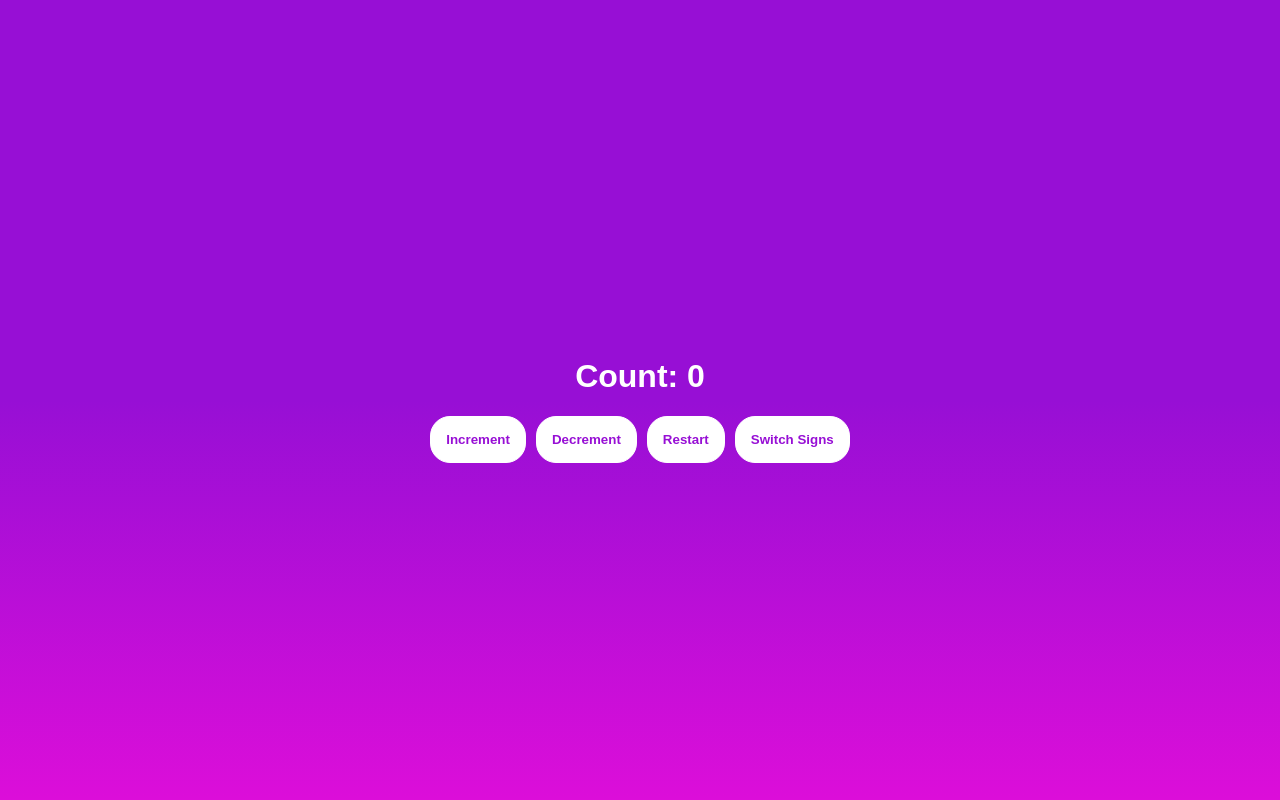
Counter App › Decrement the counter to -2
This screenshot has width=1280, height=800.
Click the button "Decrement" at (586, 440), box [536,416,637,463]
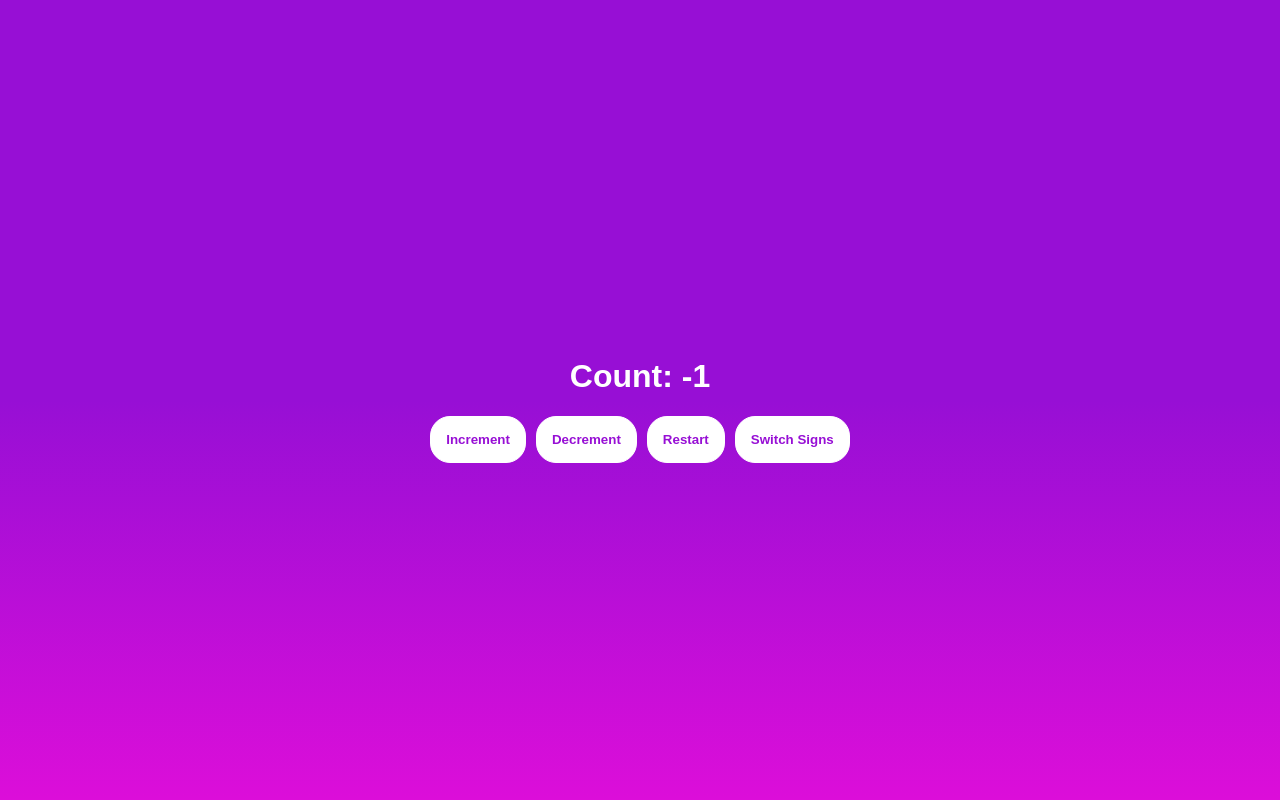
Click the button "Decrement" at (586, 440), box [536,416,637,463]
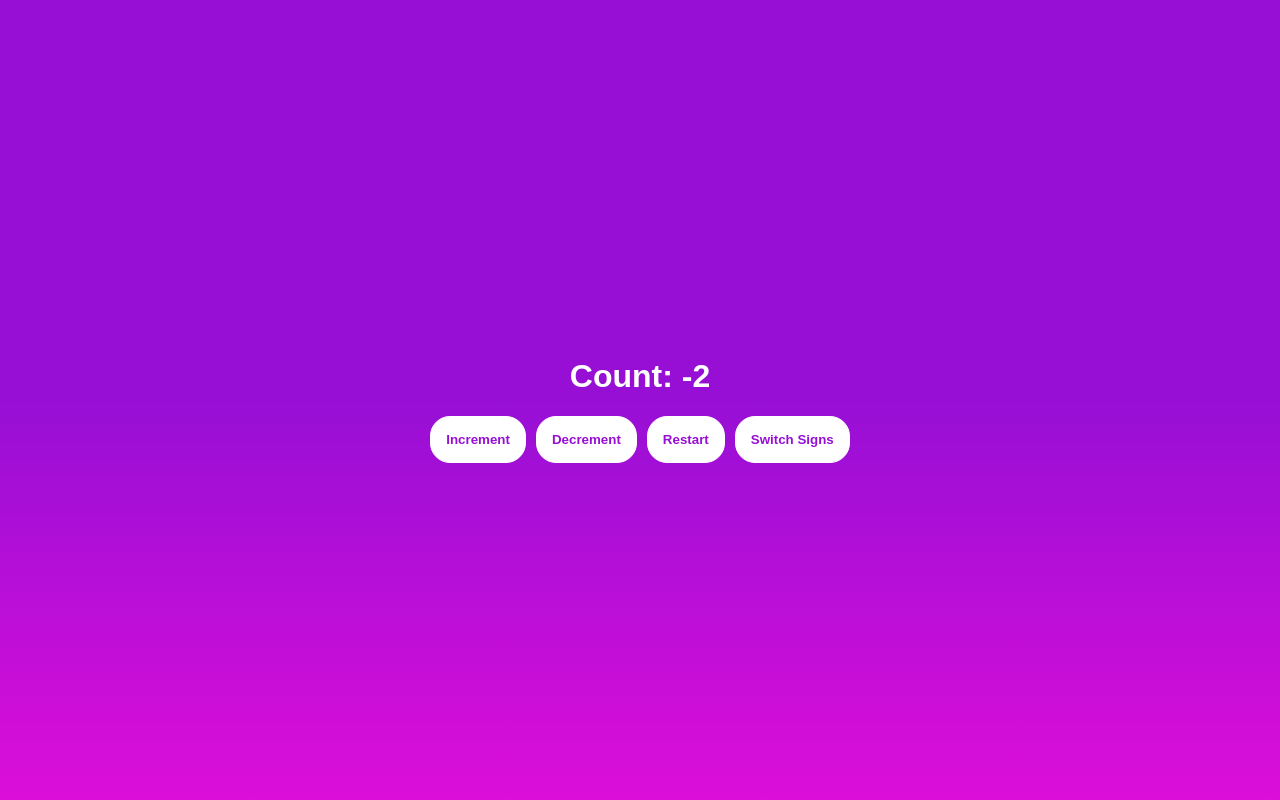
Expected: the heading "Count: -2" is shown, [570,358,710,395]
